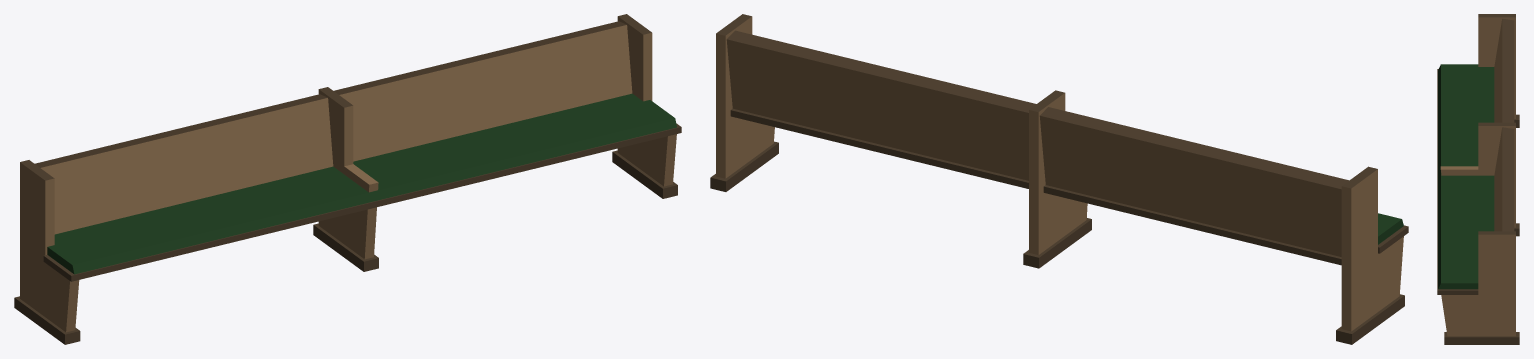
The model's file is ChurchBenchBig.glb.
The picture shows the model from 3 angles, left to right: view 1: azimuth 30°, elevation 25°; view 2: azimuth 150°, elevation 25°; view 3: azimuth 270°, elevation 25°; orthographic projection. The views are drawn at different scales.
Parts seen in each view (by area): view 1: ChurchBenchBig; view 2: ChurchBenchBig; view 3: ChurchBenchBig.
Boxes of the visible parts, left/top/right/bottom form: ChurchBenchBig: left=14, top=14, right=681, bottom=344; ChurchBenchBig: left=710, top=14, right=1408, bottom=344; ChurchBenchBig: left=1437, top=14, right=1519, bottom=344.
Size of the model in its own units: 3.5 by 0.8011 by 0.5479.
1 material, 1 textured.
